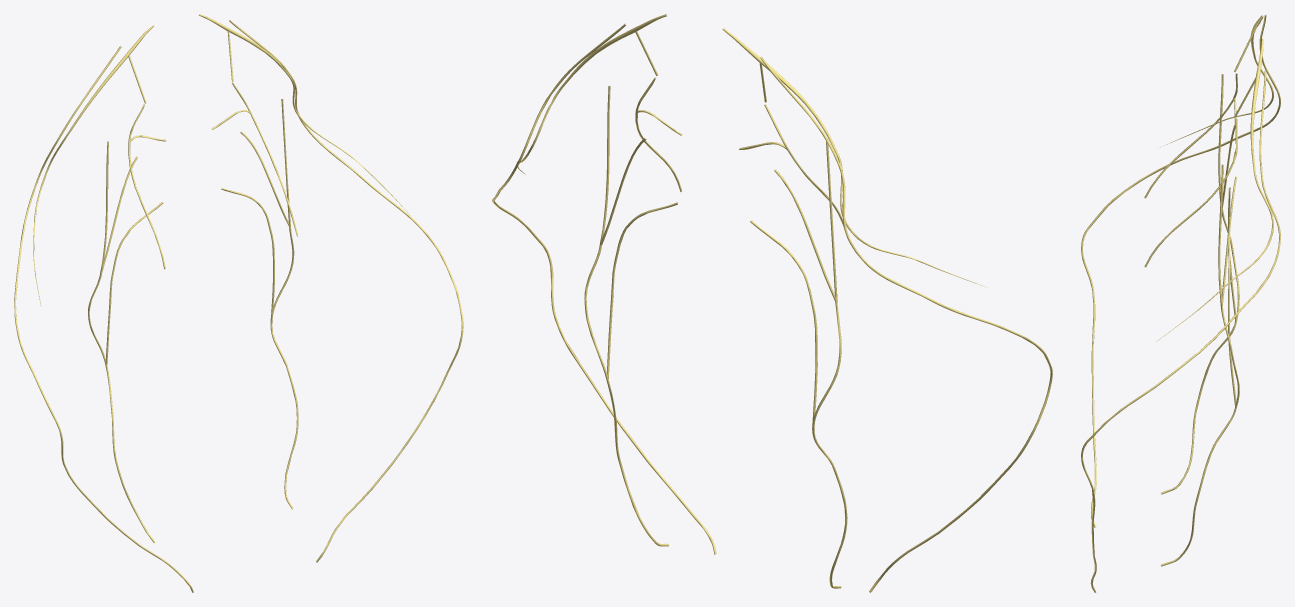
Rendered from nerfs-abdomen.lo.glb.
The picture shows the model from 3 angles, left to right: view 1: azimuth 30°, elevation 25°; view 2: azimuth 150°, elevation 25°; view 3: azimuth 270°, elevation 25°; orthographic projection. The views are drawn at different scales.
Visible parts, largest first — view 1: ZA-obturator-nerve-d, ZA-obturator-nerve-g, ZA-ilio-inguinal-nerve-g, ZA-ilio-inguinal-nerve-d, ZA-iliohypogastric-nerve-d, ZA-iliohypogastric-nerve-g; view 2: ZA-obturator-nerve-d, ZA-obturator-nerve-g, ZA-ilio-inguinal-nerve-d, ZA-ilio-inguinal-nerve-g, ZA-iliohypogastric-nerve-d, ZA-iliohypogastric-nerve-g; view 3: ZA-obturator-nerve-g, ZA-ilio-inguinal-nerve-d, ZA-ilio-inguinal-nerve-g, ZA-obturator-nerve-d, ZA-iliohypogastric-nerve-g, ZA-iliohypogastric-nerve-d, ZA-genitofemoral-nerve-d, ZA-genitofemoral-nerve-g.
Part boxes in pixels (x1=…): ZA-obturator-nerve-d: x1=88, y1=141, x2=163, y2=542; ZA-obturator-nerve-g: x1=221, y1=99, x2=298, y2=509; ZA-ilio-inguinal-nerve-g: x1=229, y1=20, x2=463, y2=562; ZA-ilio-inguinal-nerve-d: x1=14, y1=46, x2=193, y2=592; ZA-iliohypogastric-nerve-d: x1=33, y1=25, x2=153, y2=306; ZA-iliohypogastric-nerve-g: x1=198, y1=14, x2=410, y2=215; ZA-obturator-nerve-d: x1=750, y1=141, x2=847, y2=588; ZA-obturator-nerve-g: x1=584, y1=86, x2=677, y2=546; ZA-ilio-inguinal-nerve-d: x1=760, y1=57, x2=1052, y2=592; ZA-ilio-inguinal-nerve-g: x1=492, y1=24, x2=716, y2=554; ZA-iliohypogastric-nerve-d: x1=722, y1=28, x2=986, y2=287; ZA-iliohypogastric-nerve-g: x1=517, y1=14, x2=666, y2=174; ZA-obturator-nerve-g: x1=1160, y1=164, x2=1239, y2=566; ZA-ilio-inguinal-nerve-d: x1=1081, y1=14, x2=1280, y2=527; ZA-ilio-inguinal-nerve-g: x1=1081, y1=70, x2=1280, y2=592; ZA-obturator-nerve-d: x1=1161, y1=74, x2=1239, y2=494; ZA-iliohypogastric-nerve-g: x1=1156, y1=38, x2=1273, y2=341; ZA-iliohypogastric-nerve-d: x1=1160, y1=15, x2=1273, y2=147; ZA-genitofemoral-nerve-d: x1=1144, y1=73, x2=1237, y2=198; ZA-genitofemoral-nerve-g: x1=1144, y1=118, x2=1237, y2=267.
Size of the model in its own units: 0.2459 by 0.2816 by 0.0956.
